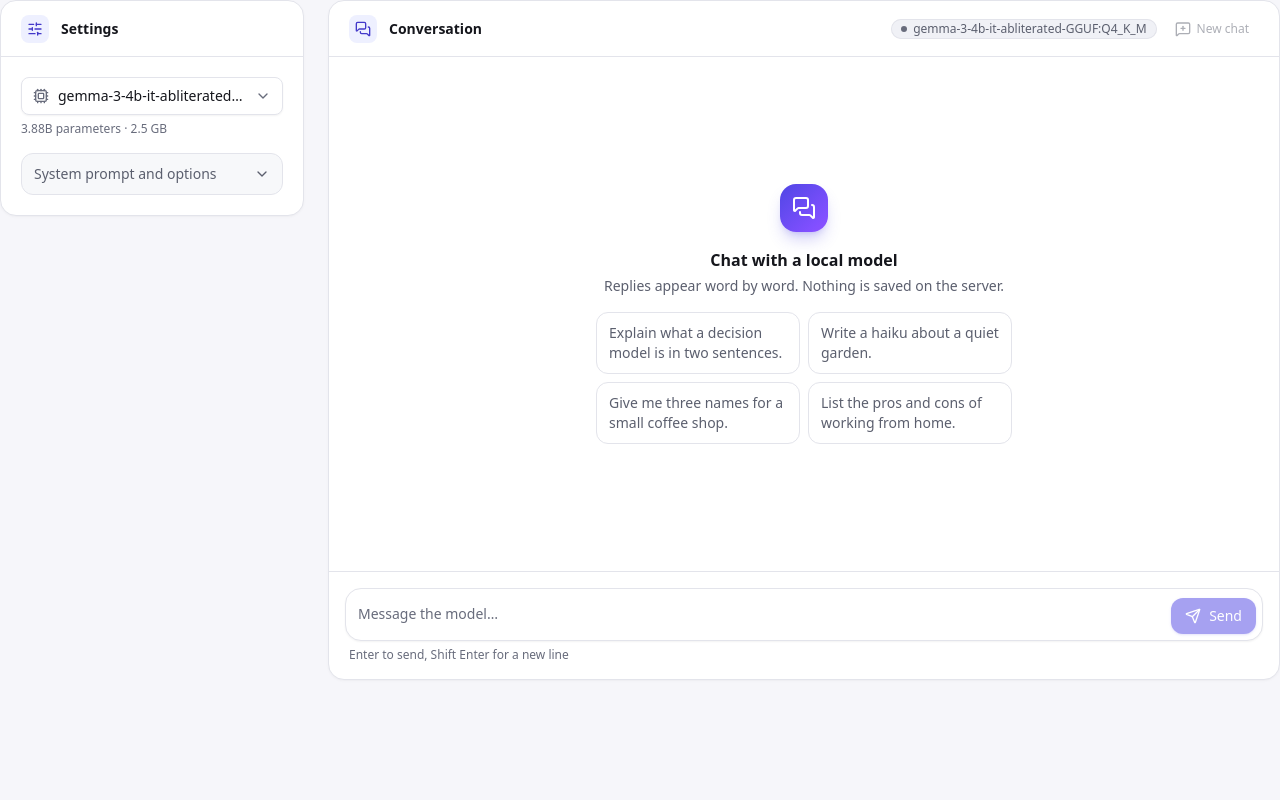
Scenario: ChatPage › starts a chat from an example prompt
Expected: the dropdown named "Model" shows "gemma-3-4b-it-abliterated-GGUF:Q4_K_M", [21,77,283,115]
Click the button "Write a haiku about a quiet garden." at (910, 343), box [808,312,1012,374]
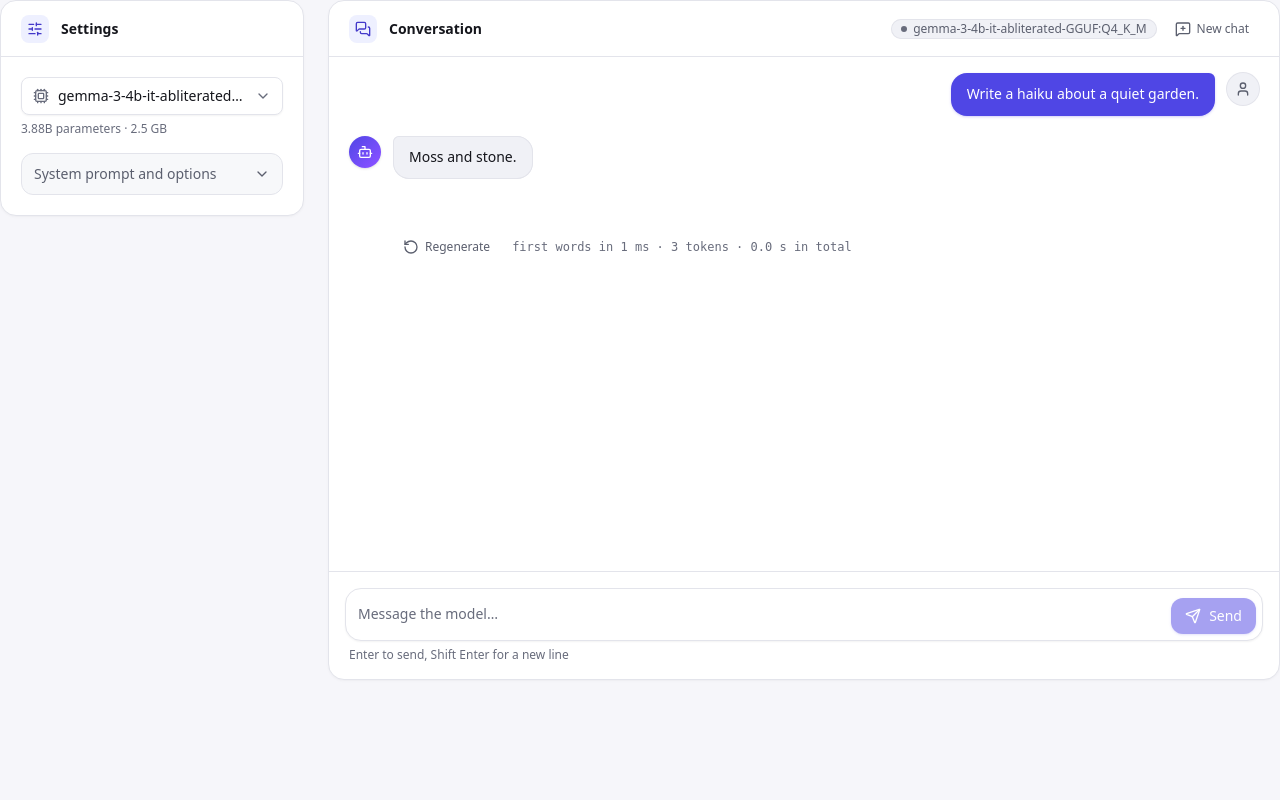
Result: the text "Moss and stone." is shown at [393,136,532,179]
